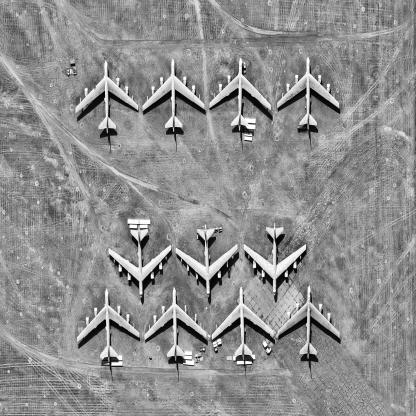B52: (77, 61, 140, 135), (143, 60, 206, 134), (78, 289, 141, 363), (145, 288, 208, 362), (278, 286, 341, 360), (245, 224, 308, 297), (210, 58, 272, 132), (278, 57, 340, 131), (213, 287, 275, 361), (177, 225, 239, 299), (110, 226, 172, 299)
